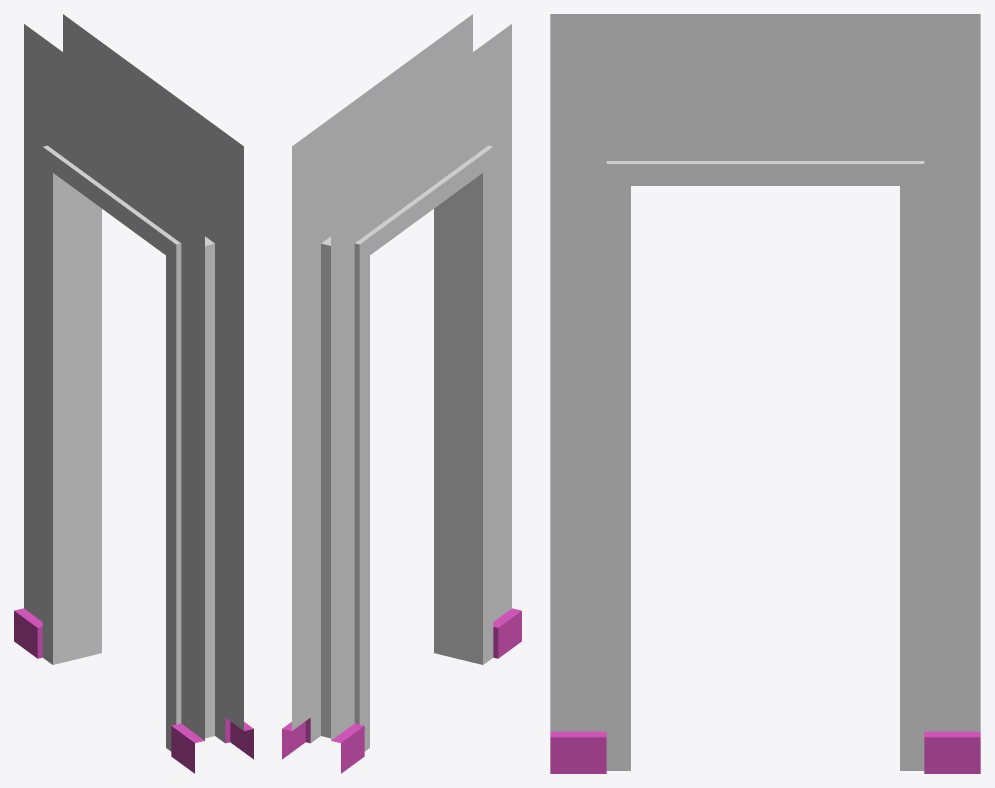
Rendered from Modulo_Pared_Puerta.fbx.
The picture shows the model from 3 angles, left to right: view 1: azimuth 30°, elevation 25°; view 2: azimuth 150°, elevation 25°; view 3: azimuth 270°, elevation 25°; orthographic projection. The views are drawn at different scales.
Parts seen in each view (by area): view 1: Modulo_Puerta; view 2: Modulo_Puerta; view 3: Modulo_Puerta.
Boxes of the visible parts, x1=… form: Modulo_Puerta: x1=14, y1=14, x2=253, y2=773; Modulo_Puerta: x1=282, y1=14, x2=521, y2=773; Modulo_Puerta: x1=550, y1=14, x2=980, y2=773.
Size of the model in its own units: 30 by 300 by 160.
